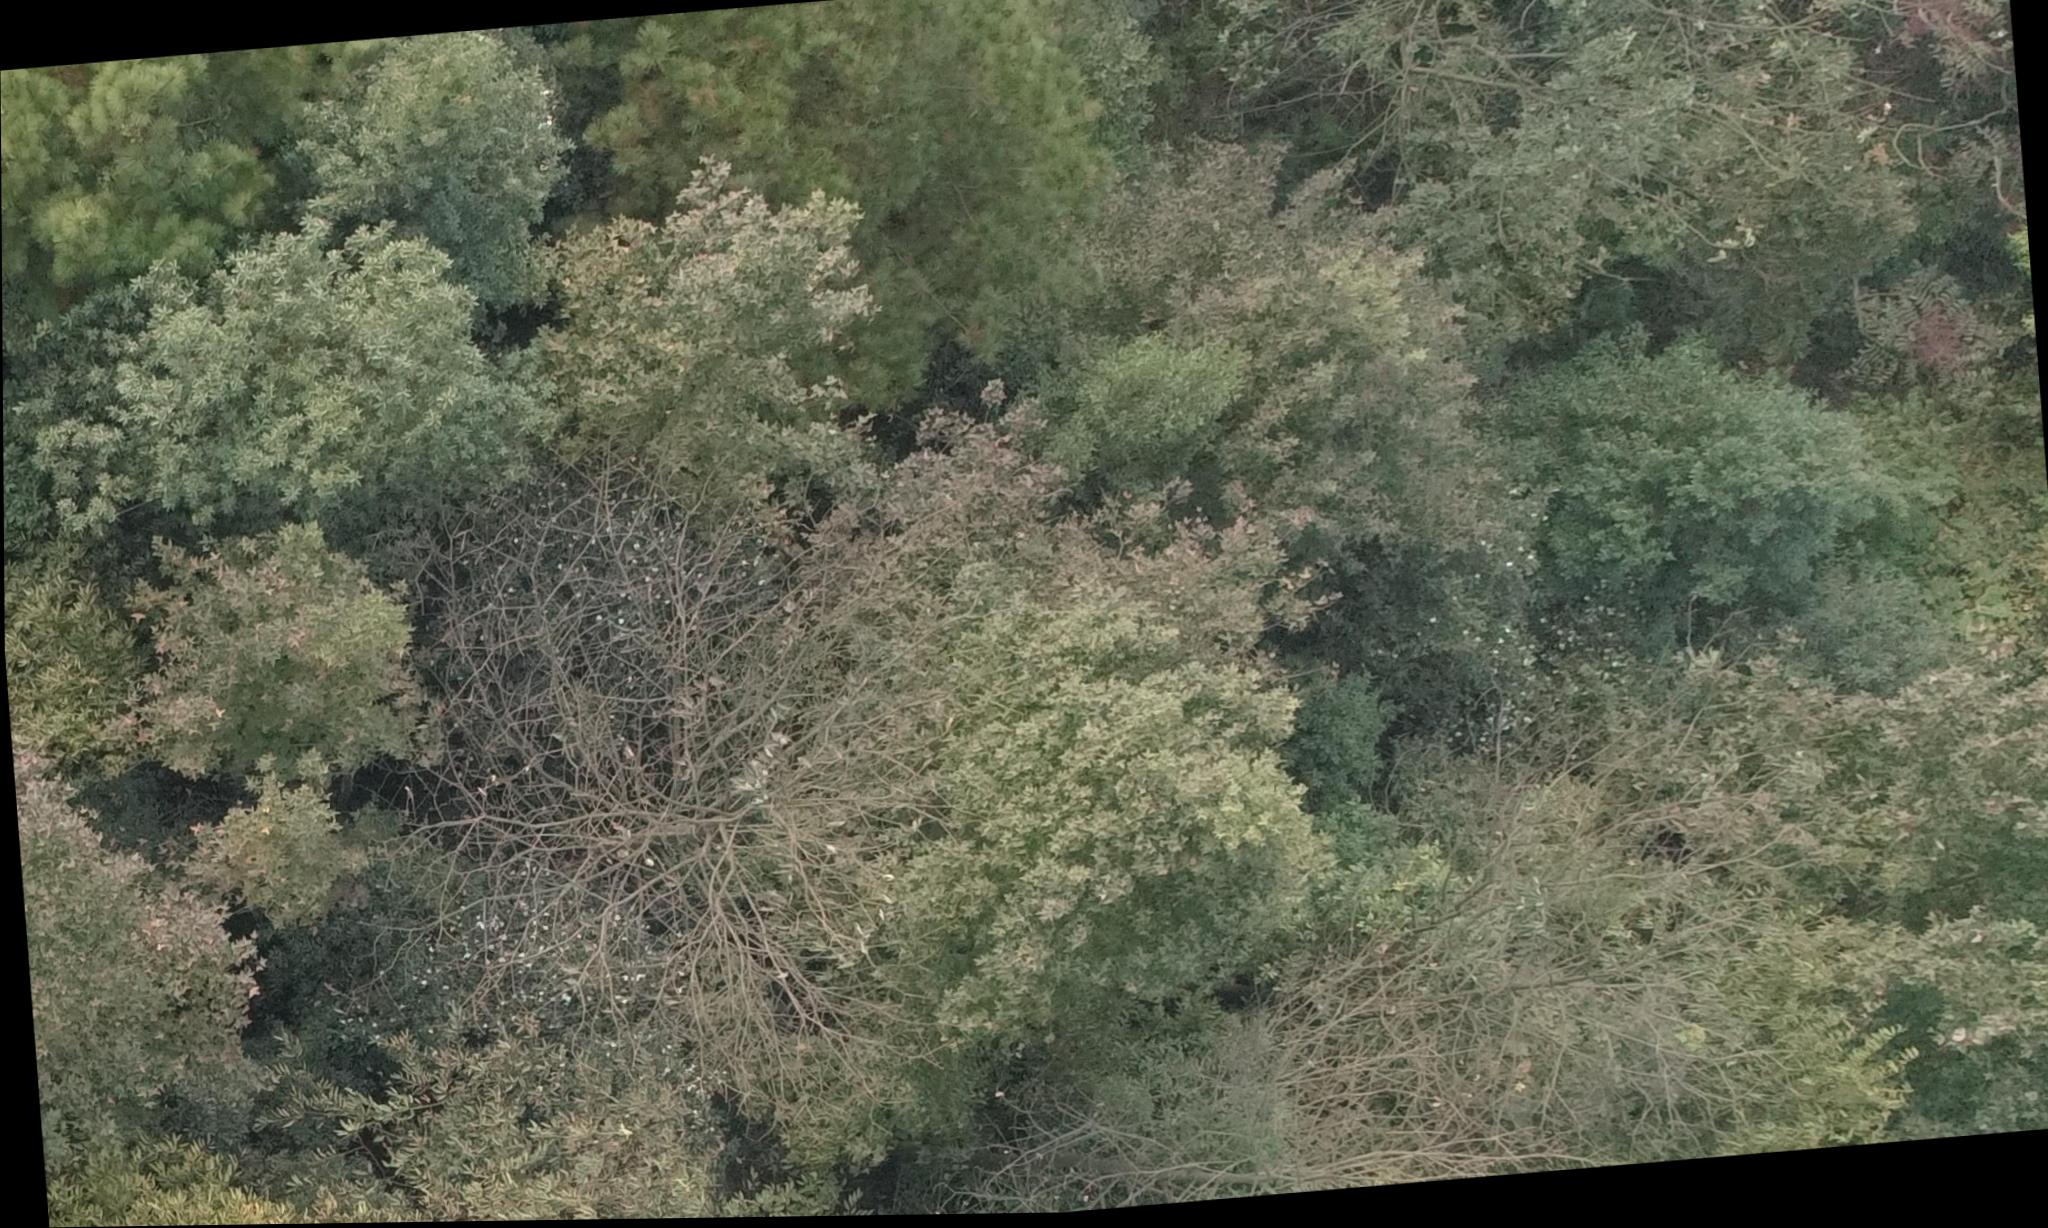dead: (406, 453, 943, 1115)
